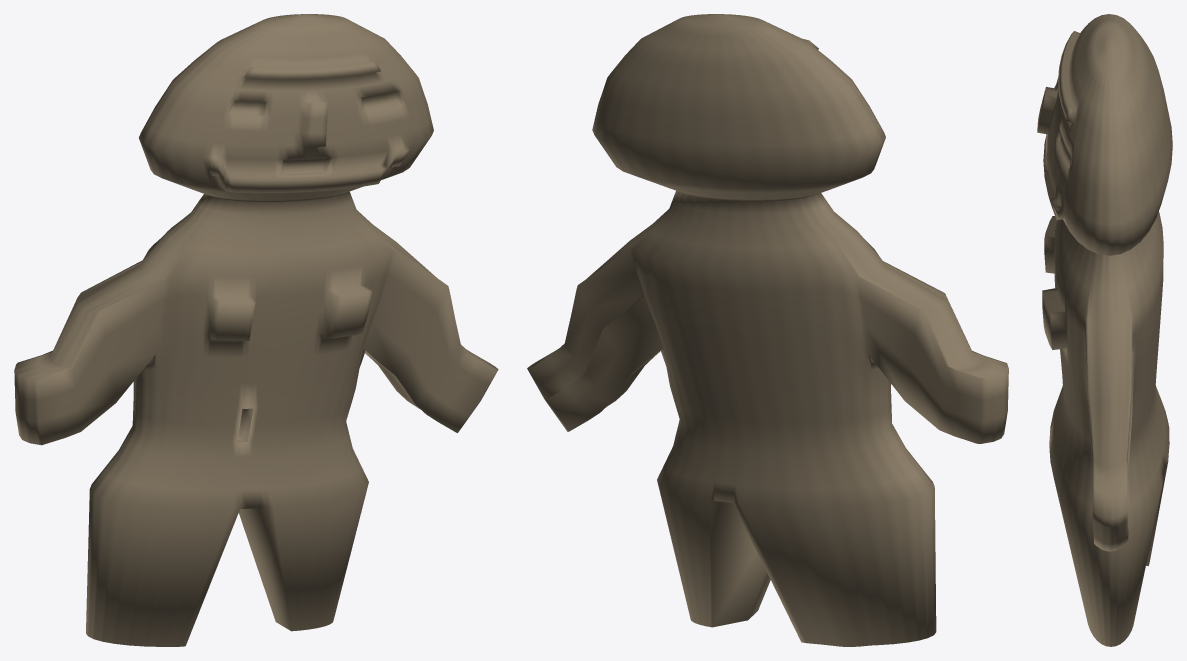
File: dogu3.glb
3 views of the same model, side by side, from view 1: azimuth 30°, elevation 25°; view 2: azimuth 150°, elevation 25°; view 3: azimuth 270°, elevation 25° (orthographic). The views are drawn at different scales.
Visible parts, largest first — view 1: 球.001; view 2: 球.001; view 3: 球.001.
Part boxes in pixels (x1=…): 球.001: x1=14, y1=14, x2=498, y2=646; 球.001: x1=527, y1=14, x2=1008, y2=646; 球.001: x1=1037, y1=14, x2=1172, y2=646.
Bounding box in the file's own units: 2.85 × 3.49 × 0.7255.
